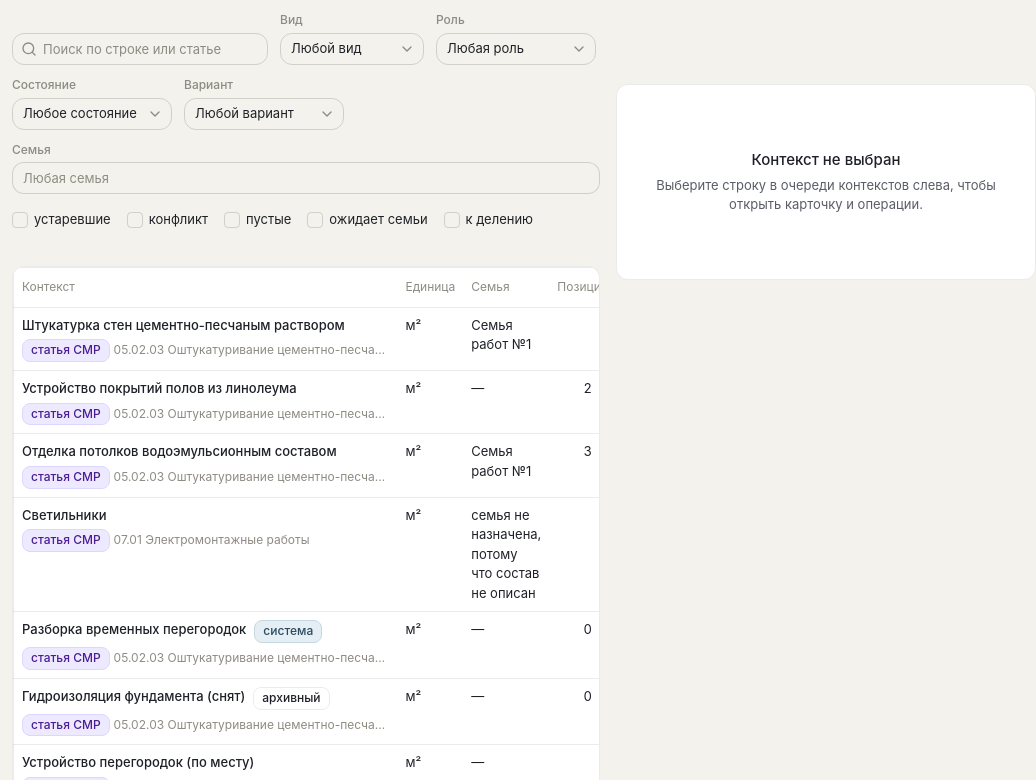
ContextsTab › применение фильтра «Вид» по-прежнему сужает очередь (подпись — только вид отображения)
This screenshot has width=1036, height=780.
Expected: the text "Штукатурка стен цементно-песчаным раствором" is shown, [22,316,345,335]
Click the dropdown labelled "вид" at x=352, y=49, box [280,33,424,65]
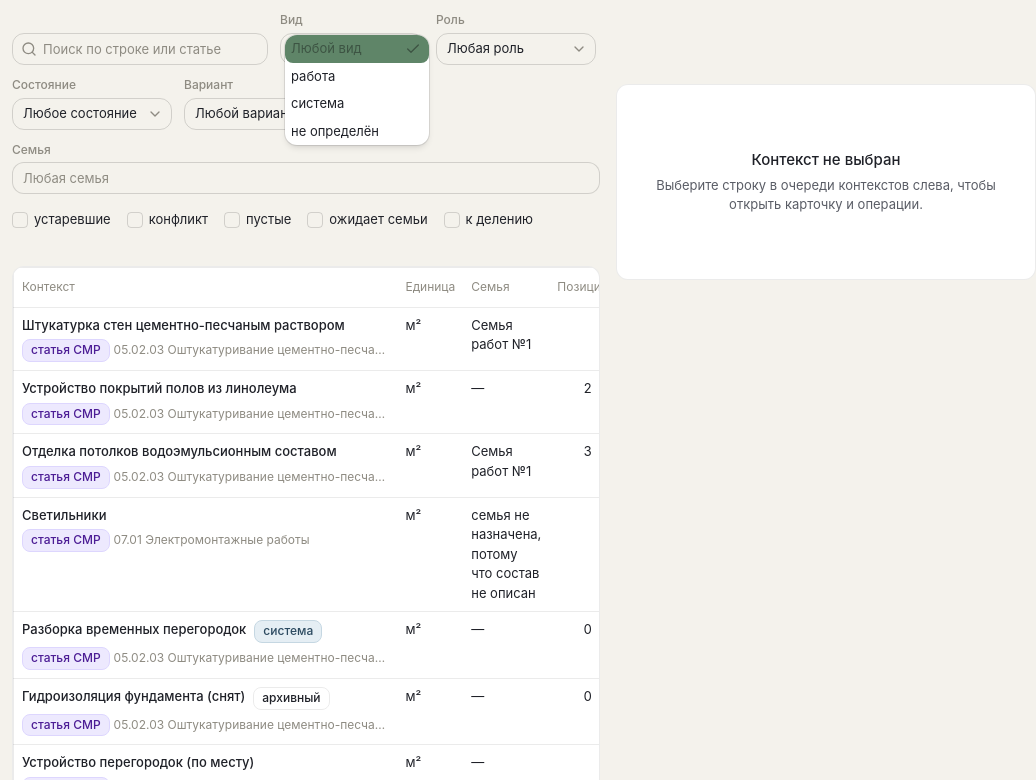
Click the option "система" at x=318, y=103, box [291,95,344,111]
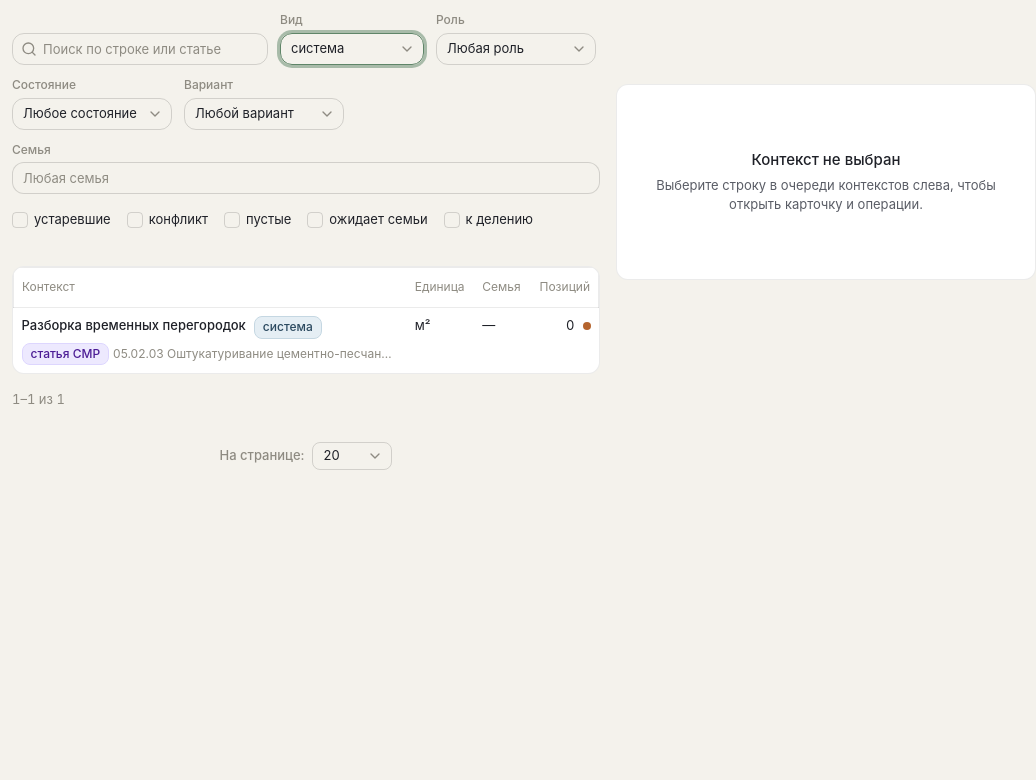
Expected: the text "Разборка временных перегородок" is shown, [22,316,246,335]
Expected: the text "Штукатурка стен цементно-песчаным раствором" is gone
